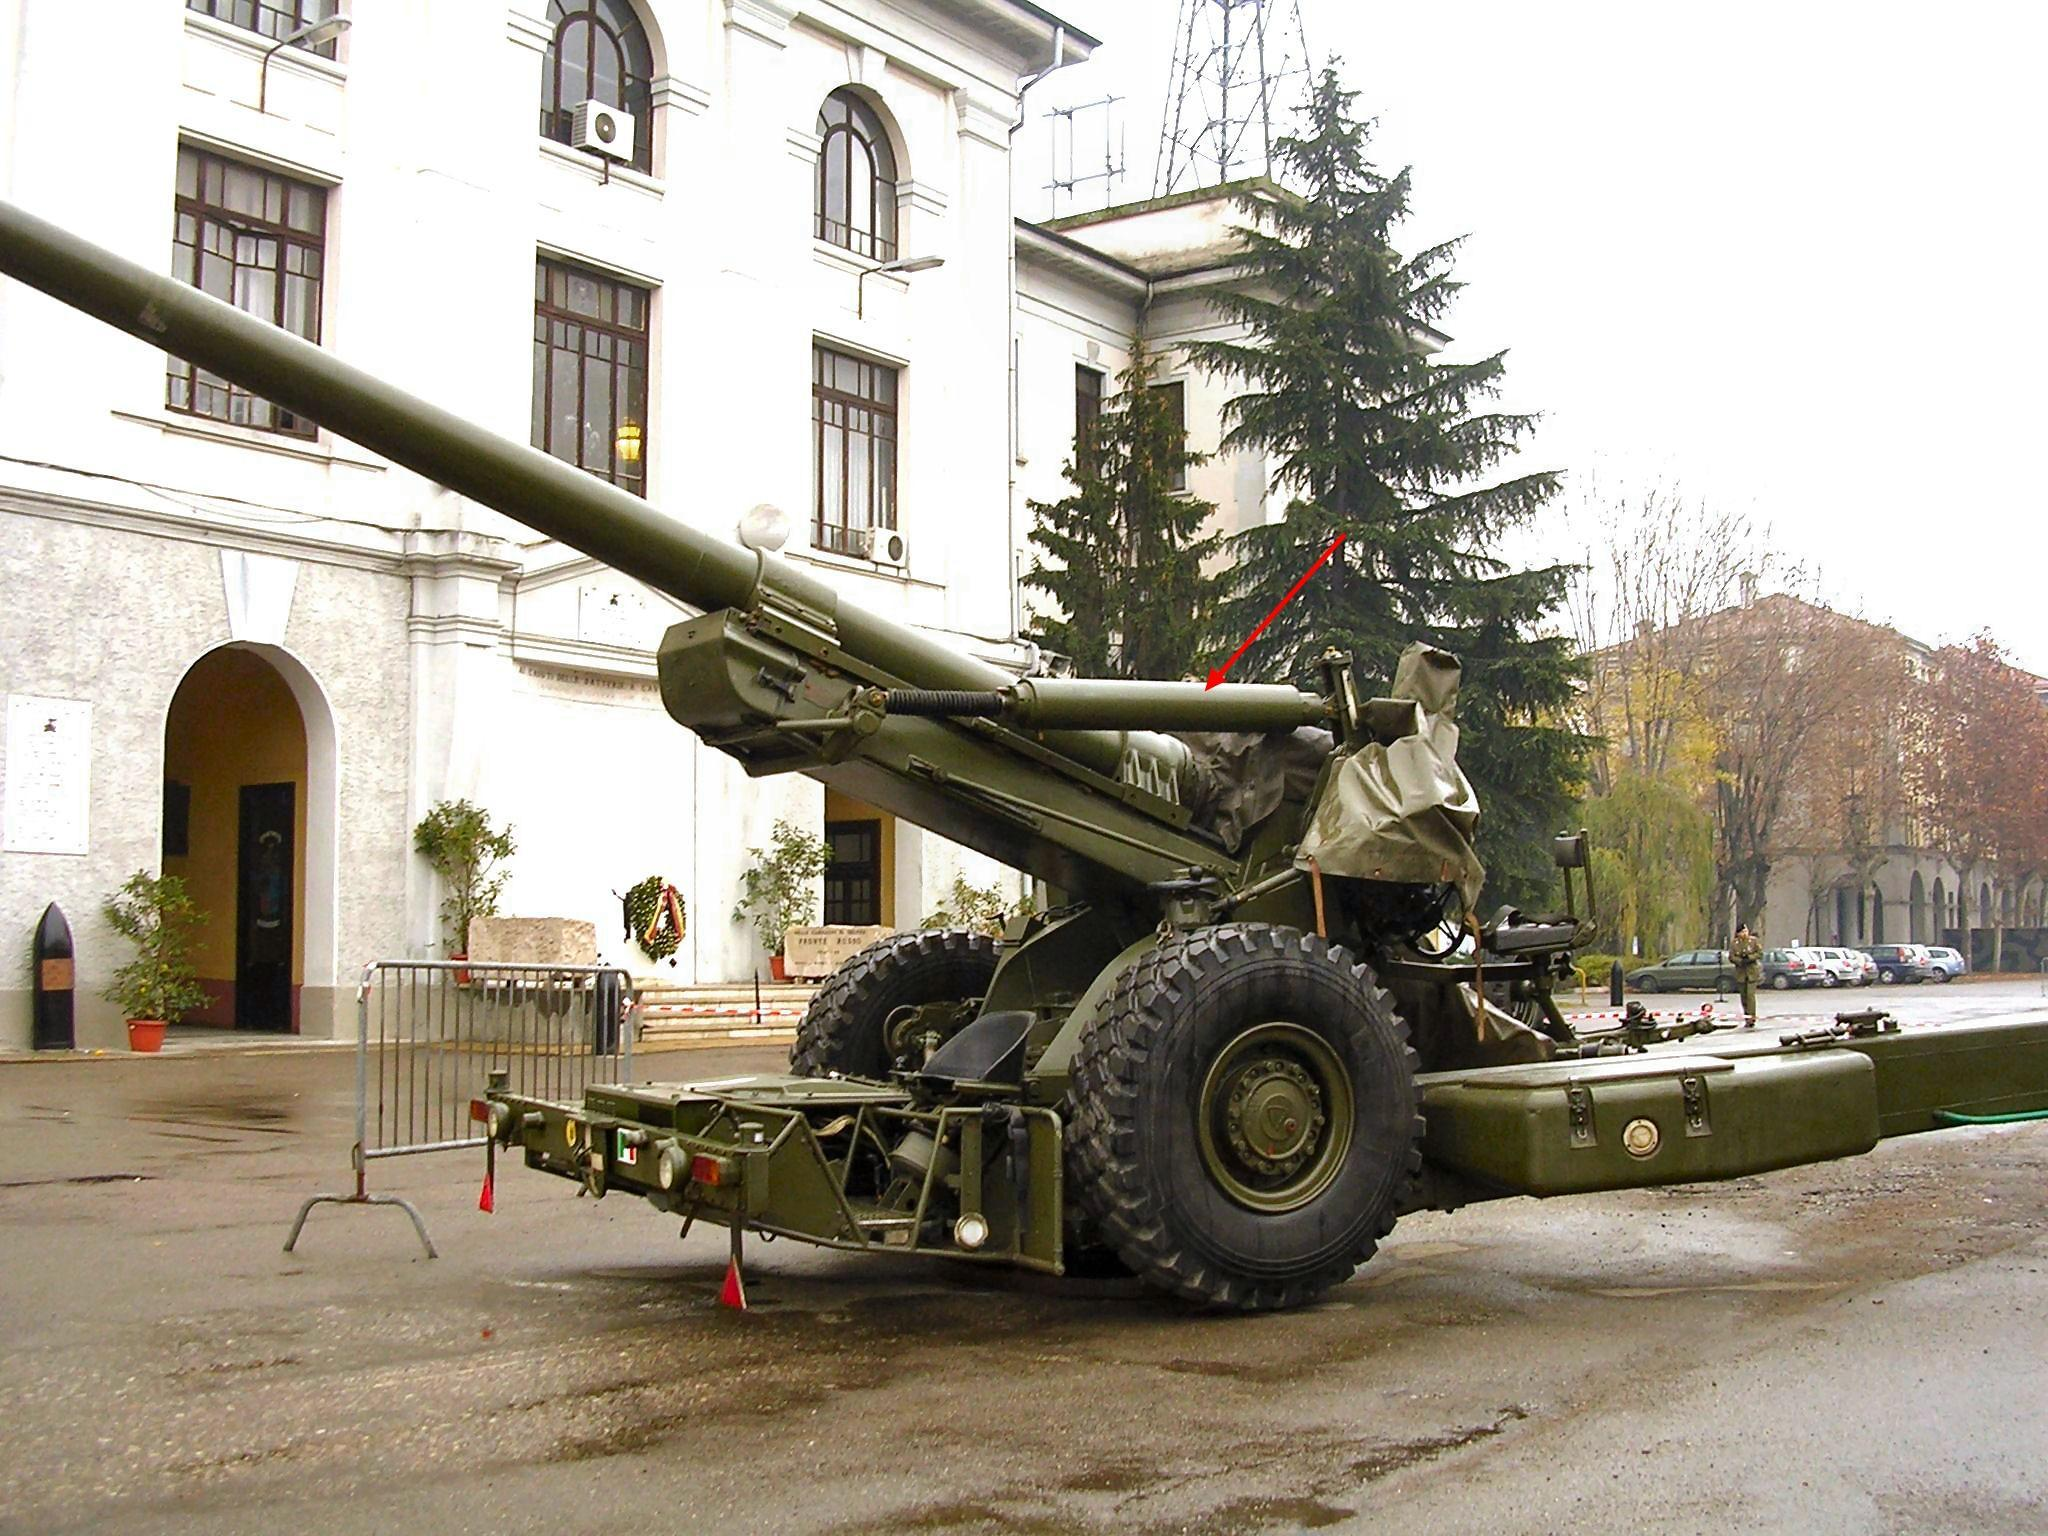MIL_SPG: (0, 204, 2048, 1308)
